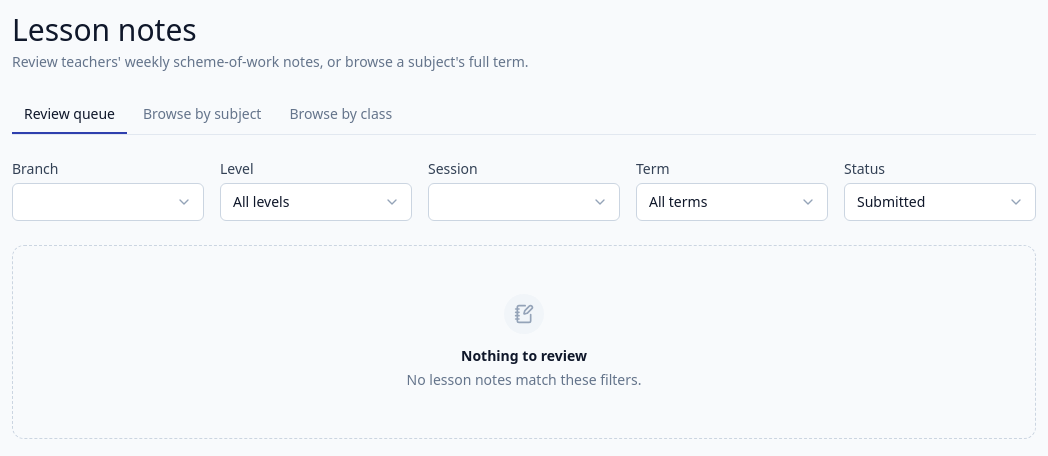
it: LessonNotesPage › shows the school-wide catalogue empty state for a SCHOOL_ADMIN on the Browse by subject tab
The width and height of the screenshot is (1048, 456).
Expected: the heading "Nothing to review" is shown, left=461, top=346, right=587, bottom=366
What coordinates should you click on to do the following:
click the tab "Browse by subject"
I would click on:
 (202, 115)
Its box is left=131, top=96, right=273, bottom=134.
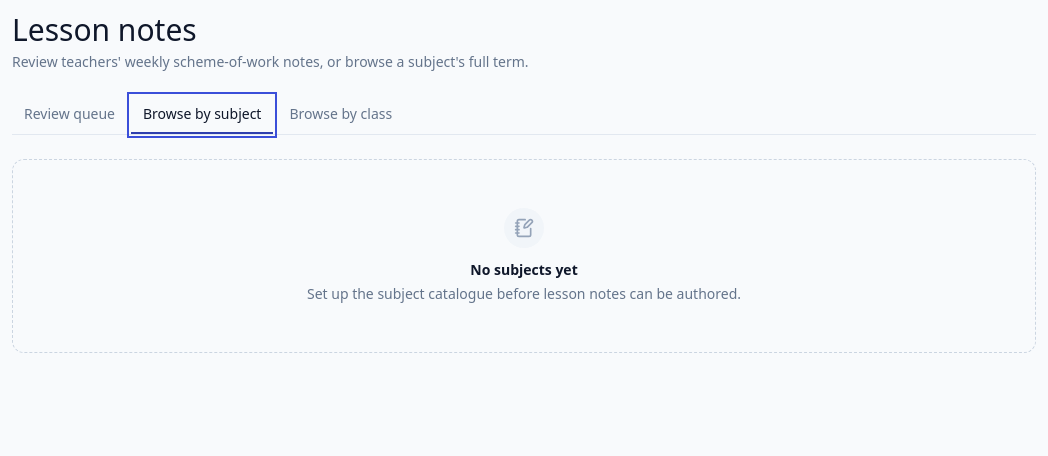
Now the heading "No subjects yet" is shown, box left=470, top=260, right=578, bottom=280
